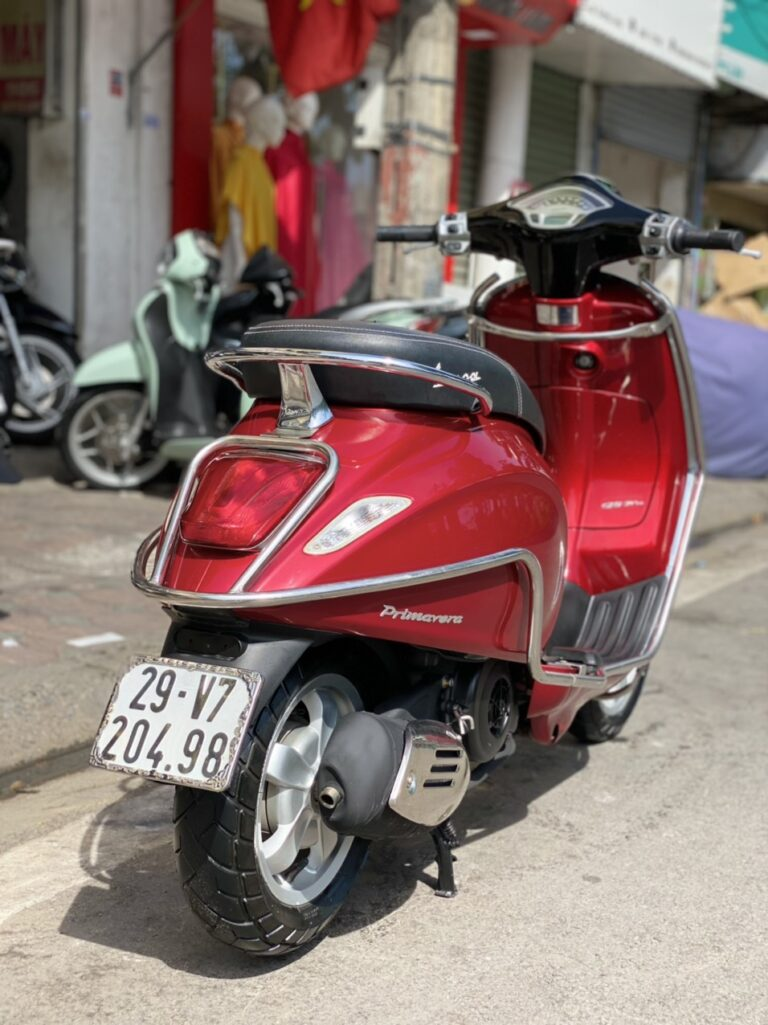bien_so: (85, 649, 269, 801)
